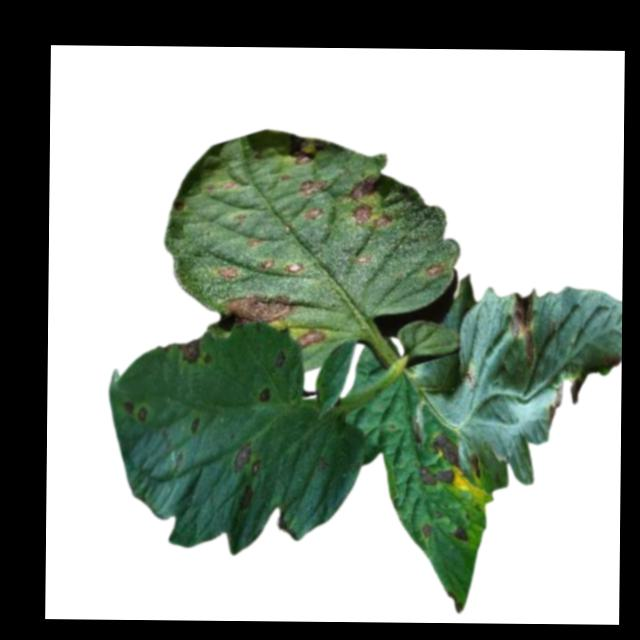Early_blight: (212, 292, 296, 339), (506, 288, 537, 367), (347, 202, 391, 231), (227, 442, 263, 477), (292, 134, 327, 166), (430, 433, 461, 465), (415, 464, 454, 489), (546, 379, 565, 430), (172, 338, 200, 367), (348, 173, 378, 200), (299, 177, 329, 200), (298, 329, 327, 351), (123, 401, 146, 423), (216, 263, 240, 284), (237, 484, 252, 514), (423, 259, 444, 280), (449, 525, 471, 545), (304, 205, 327, 222), (284, 260, 304, 278), (255, 386, 270, 407), (187, 418, 200, 434), (419, 523, 432, 539), (259, 259, 275, 272)
